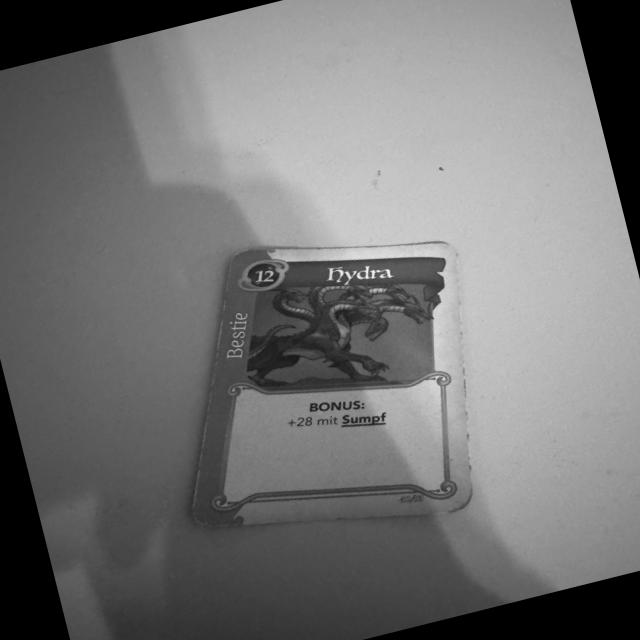Hydra: (185, 240, 475, 530)
